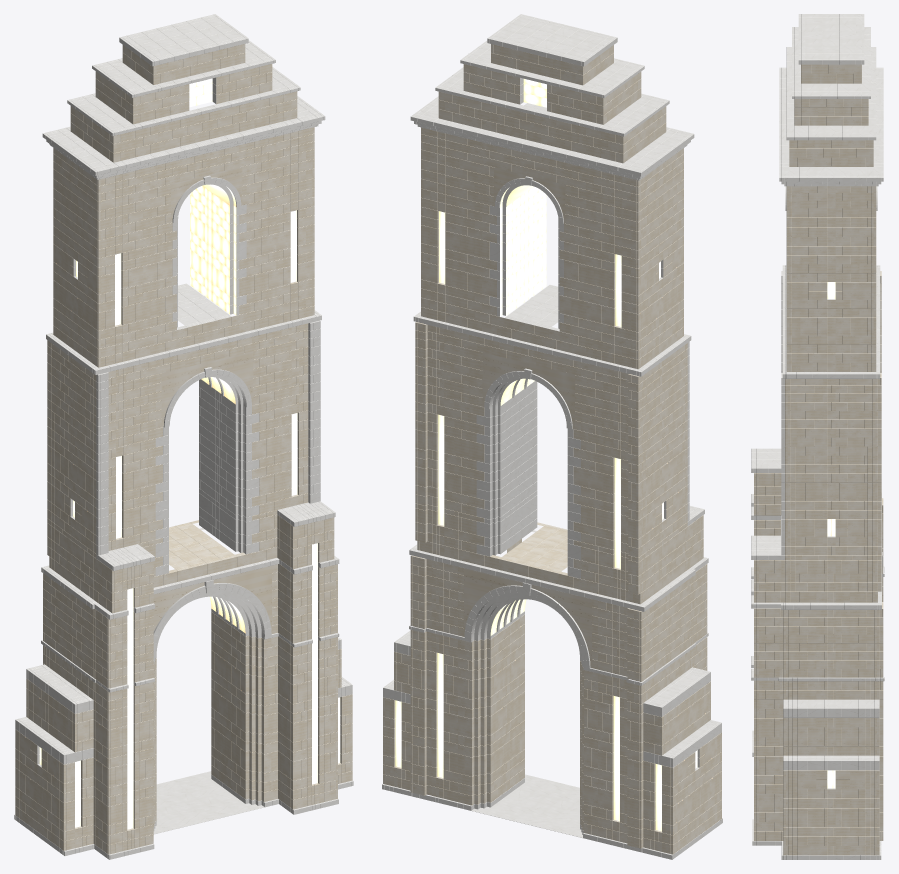
3 renders of one model, left to right at view 1: azimuth 30°, elevation 25°; view 2: azimuth 150°, elevation 25°; view 3: azimuth 270°, elevation 25°, orthographic.
Parts seen in each view (by area): view 1: Mesh_gateway; view 2: Mesh_gateway; view 3: Mesh_gateway.
Part boxes in pixels (x1,y1,x2,y2): Mesh_gateway: [14, 14, 353, 859]; Mesh_gateway: [382, 14, 722, 859]; Mesh_gateway: [751, 14, 884, 859].
Bounding box in the file's own units: 39 × 98.6 × 15.8.
Materials: 1 (1 with a texture image).
